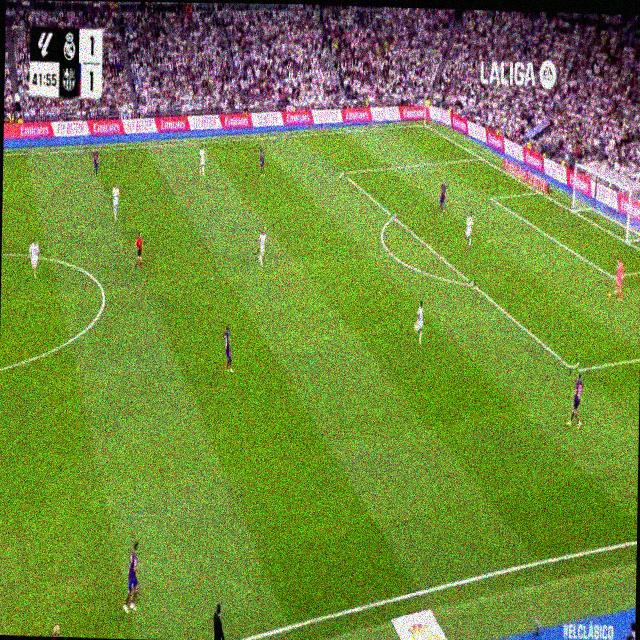bigarea_bottom_inner: (570, 358, 578, 379)
bigarea_top_inner: (338, 165, 346, 180)
bottom_arc_area_intersection: (468, 276, 476, 292)
corner: (422, 119, 428, 128)
smallarea_top_inner: (489, 193, 494, 203)
top_arc_area_intersection: (390, 208, 396, 223)
